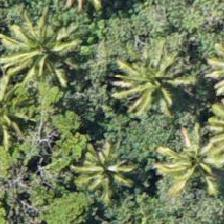coconut_tree: (0, 8, 90, 98), (103, 43, 193, 133), (71, 131, 161, 221), (146, 129, 223, 219)
